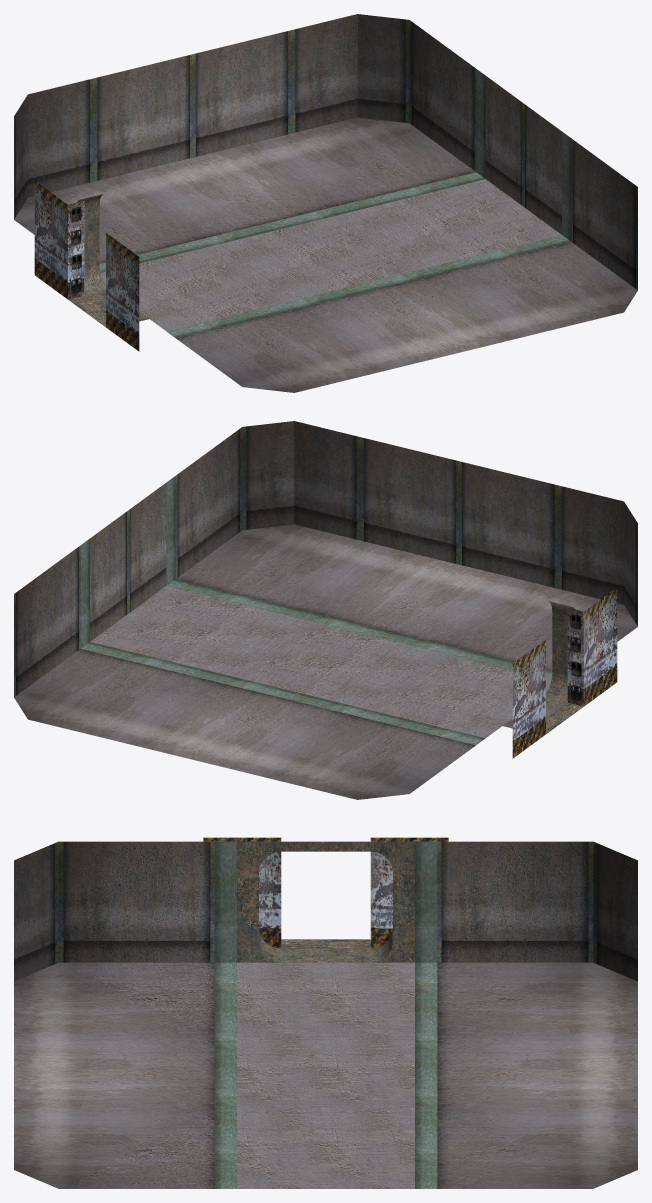
The model's file is M10_Z02BASE_22_INTERIOR.glb.
3 views of the same model, one above another, from view 1: azimuth 30°, elevation 25°; view 2: azimuth 150°, elevation 25°; view 3: azimuth 270°, elevation 25° (orthographic). The views are drawn at different scales.
Visible parts, largest first — view 1: M10_Z02BASE_22_INTERIOR; view 2: M10_Z02BASE_22_INTERIOR; view 3: M10_Z02BASE_22_INTERIOR.
Part boxes in pixels (box(x1,y1,x2,y2)): M10_Z02BASE_22_INTERIOR: box(14, 14, 637, 392); M10_Z02BASE_22_INTERIOR: box(14, 421, 637, 799); M10_Z02BASE_22_INTERIOR: box(14, 837, 637, 1188).
Bounding box in the file's own units: 13.25 × 3 × 14.
6 materials, 6 textured.
